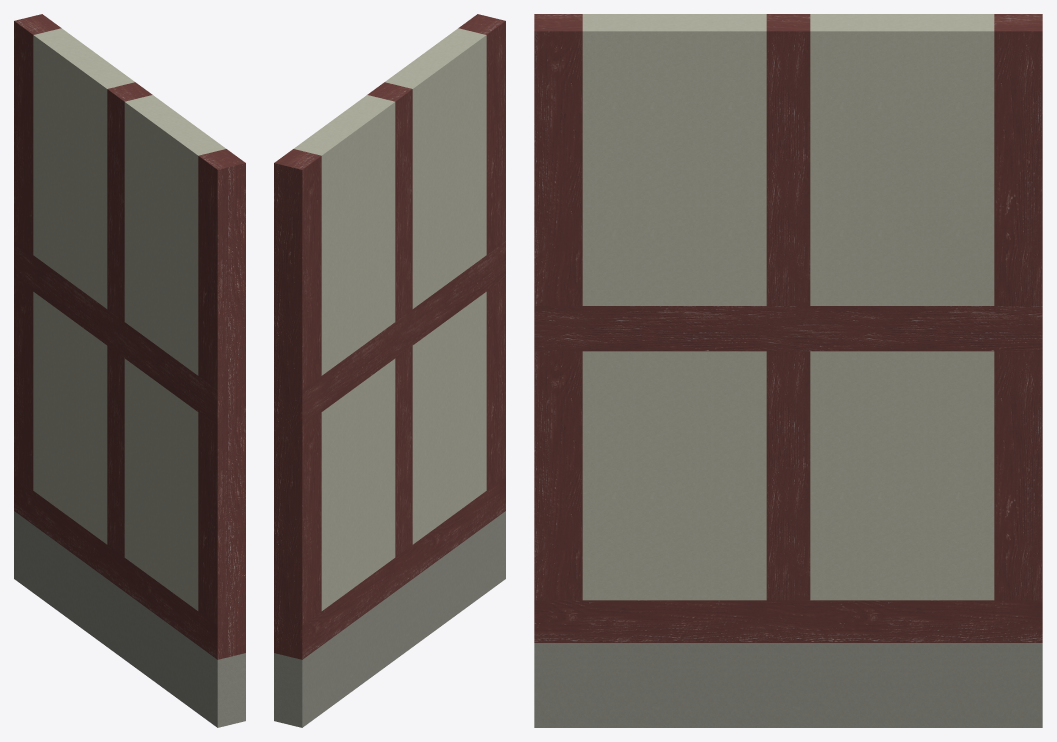
Rendered from SM_Sun_Won_Wall_E.fbx.
The picture shows the model from 3 angles, left to right: view 1: azimuth 30°, elevation 25°; view 2: azimuth 150°, elevation 25°; view 3: azimuth 270°, elevation 25°; orthographic projection. The views are drawn at different scales.
Visible parts, largest first — view 1: SM_Sun_Won_Wall_E; view 2: SM_Sun_Won_Wall_E; view 3: SM_Sun_Won_Wall_E.
Boxes of the visible parts, <box> form: SM_Sun_Won_Wall_E: <box>14,14,245,727</box>; SM_Sun_Won_Wall_E: <box>274,14,505,727</box>; SM_Sun_Won_Wall_E: <box>534,14,1042,727</box>.
Bounding box in the file's own units: 15 × 283 × 187.
